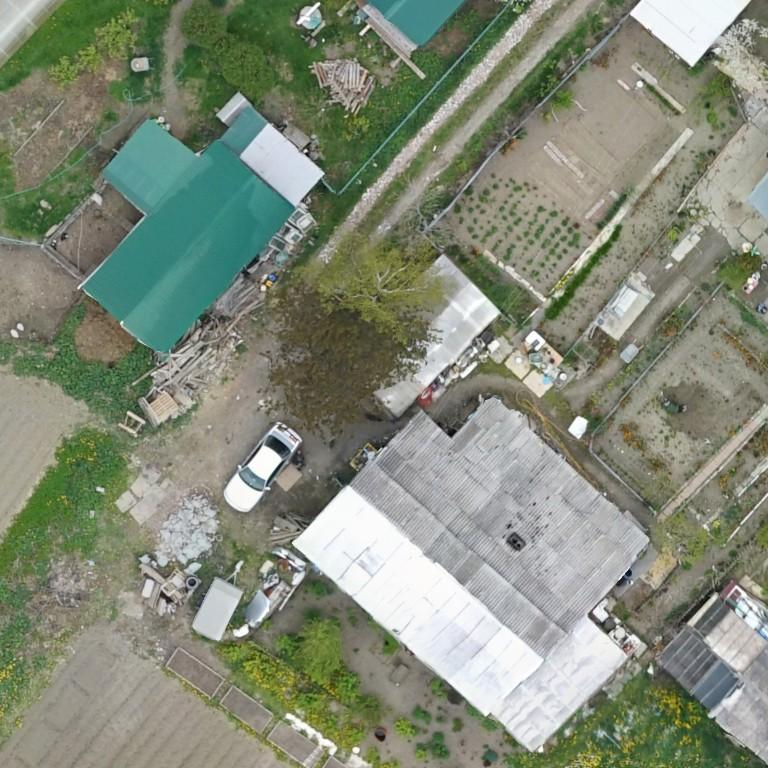hogweed: (12, 305, 154, 423)
